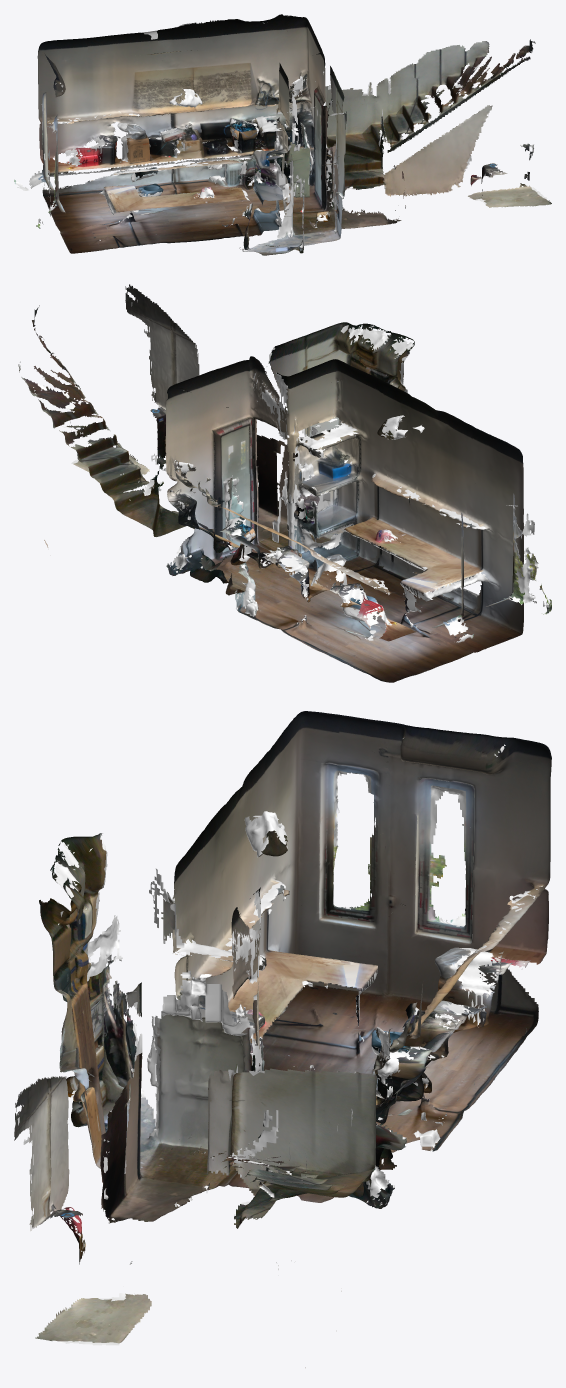
The picture shows the model from 3 angles, top to bottom: view 1: azimuth 30°, elevation 25°; view 2: azimuth 150°, elevation 25°; view 3: azimuth 270°, elevation 25°; orthographic projection. The views are drawn at different scales.
Parts seen in each view (by area): view 1: texture_6, texture_3, texture_9, texture_0, object 1, texture_5, texture_4, texture_7, texture_2, texture_10, texture_8, texture_1; view 2: texture_5, texture_4, texture_8, object 1, texture_3, texture_0, texture_2, texture_9, texture_10, texture_1, texture_6, texture_7; view 3: texture_2, texture_4, texture_0, texture_7, object 1, texture_3, texture_1, texture_9, texture_5, texture_8, texture_6, texture_10.
Part boxes in pixels (x1,y1,x2,y2): texture_6: (67,14,305,202); texture_3: (38,38,551,207); texture_9: (40,102,282,230); texture_0: (174,73,408,229); object 1: (29,15,546,251); texture_5: (147,15,330,180); texture_4: (39,91,271,253); texture_7: (222,140,405,255); texture_2: (14,45,160,246); texture_10: (226,63,344,234); texture_8: (165,79,289,243); texture_1: (241,66,346,255); texture_5: (165,356,457,567); texture_4: (283,410,536,675); texture_8: (287,359,455,602); object 1: (25,296,550,640); texture_3: (18,284,410,682); texture_0: (99,405,333,615); texture_2: (341,427,551,680); texture_9: (235,508,470,675); texture_10: (166,409,367,595); texture_1: (268,322,414,521); texture_6: (187,391,350,631); texture_7: (251,435,394,590); texture_2: (250,711,551,1068); texture_4: (234,717,538,1111); texture_0: (76,938,457,1228); texture_7: (66,960,264,1221); object 1: (16,738,542,1345); texture_3: (14,737,550,1367); texture_1: (39,833,259,1182); texture_9: (371,922,538,1152); texture_5: (172,786,415,1194); texture_8: (172,792,287,1054); texture_6: (369,904,509,1183); texture_10: (60,964,427,1208).
Size of the model in its own units: 9.99 by 4.03 by 5.62.
Materials: 12 (11 with a texture image).
